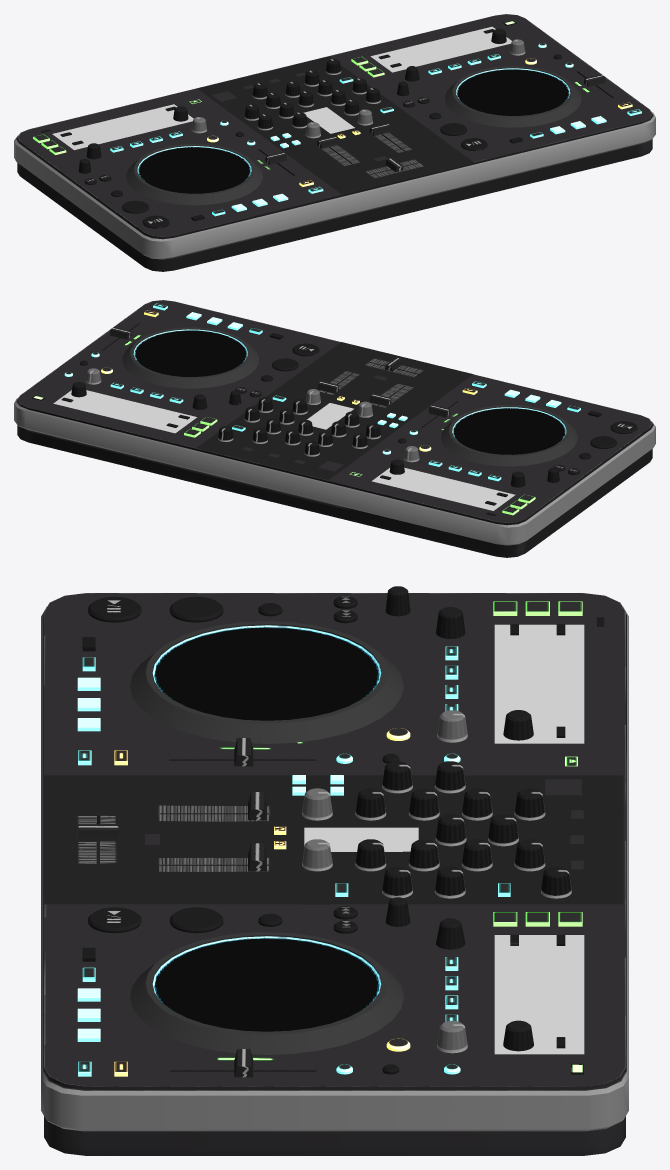
The model's file is Pioneer.fbx.
The picture shows the model from 3 angles, top to bottom: view 1: azimuth 30°, elevation 25°; view 2: azimuth 150°, elevation 25°; view 3: azimuth 270°, elevation 25°; orthographic projection. The views are drawn at different scales.
Parts seen in each view (by area): view 1: Mixer; view 2: Mixer; view 3: Mixer.
Boxes of the visible parts, x1,y1,x2,y2 form: Mixer: [14, 14, 655, 271]; Mixer: [14, 300, 655, 557]; Mixer: [41, 586, 628, 1155].
Bounding box in the file's own units: 497 × 43.99 × 248.
2 materials, 1 textured.
